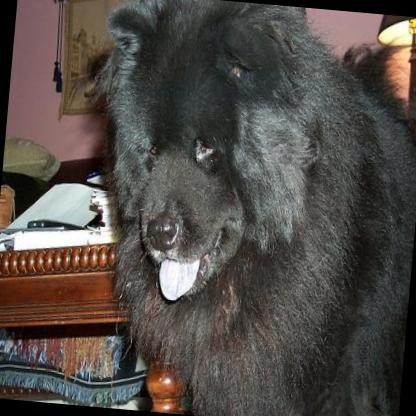chow: (66, 0, 416, 416)
